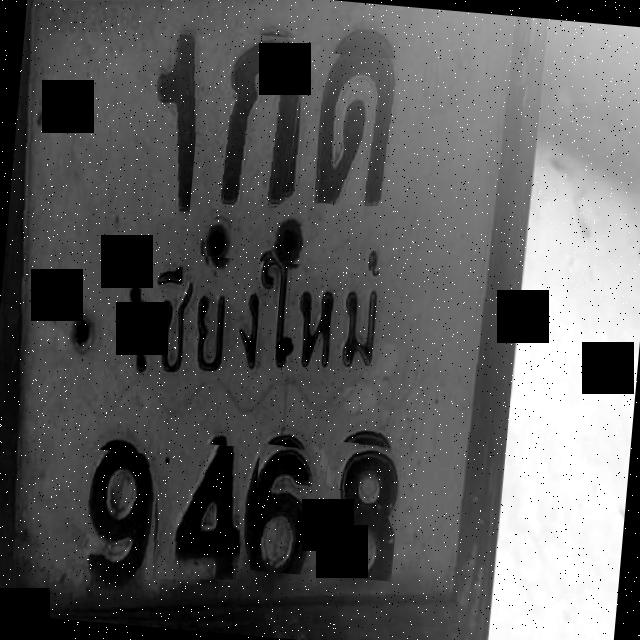letters: (210, 32, 310, 217), (312, 52, 425, 212), (146, 440, 249, 586), (72, 448, 158, 606), (126, 46, 203, 220), (318, 440, 403, 581), (250, 442, 322, 576)
license-plate: (5, 0, 531, 635)
province: (108, 248, 426, 406)
